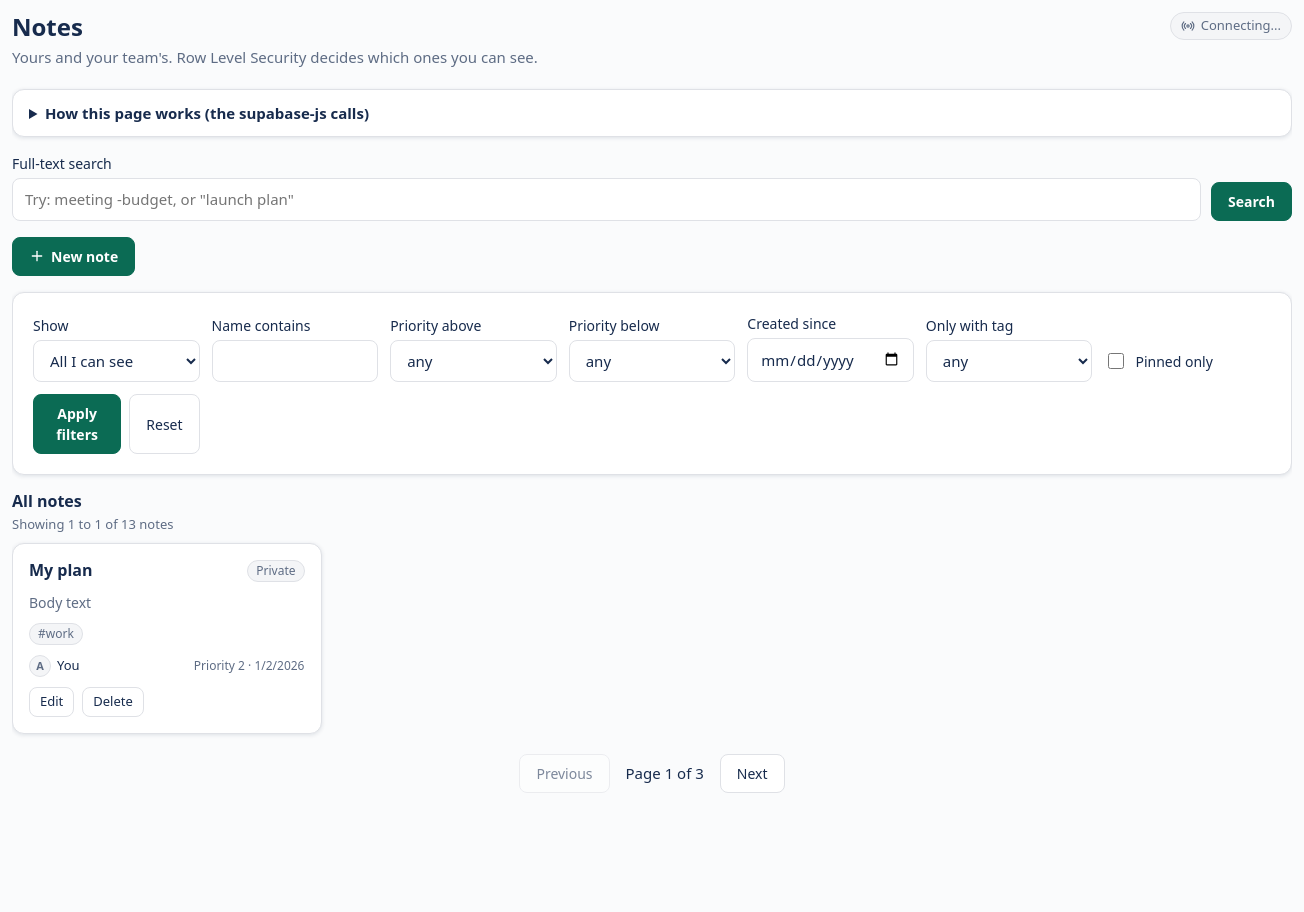
Test case: NotesPage › paginates with the range and the count
Check: the heading "My plan" is shown, box left=29, top=560, right=92, bottom=580
Check: the text "Page 1 of 3" is shown, box left=626, top=762, right=704, bottom=784
Click the button "Next" at (752, 773), box left=720, top=754, right=785, bottom=792
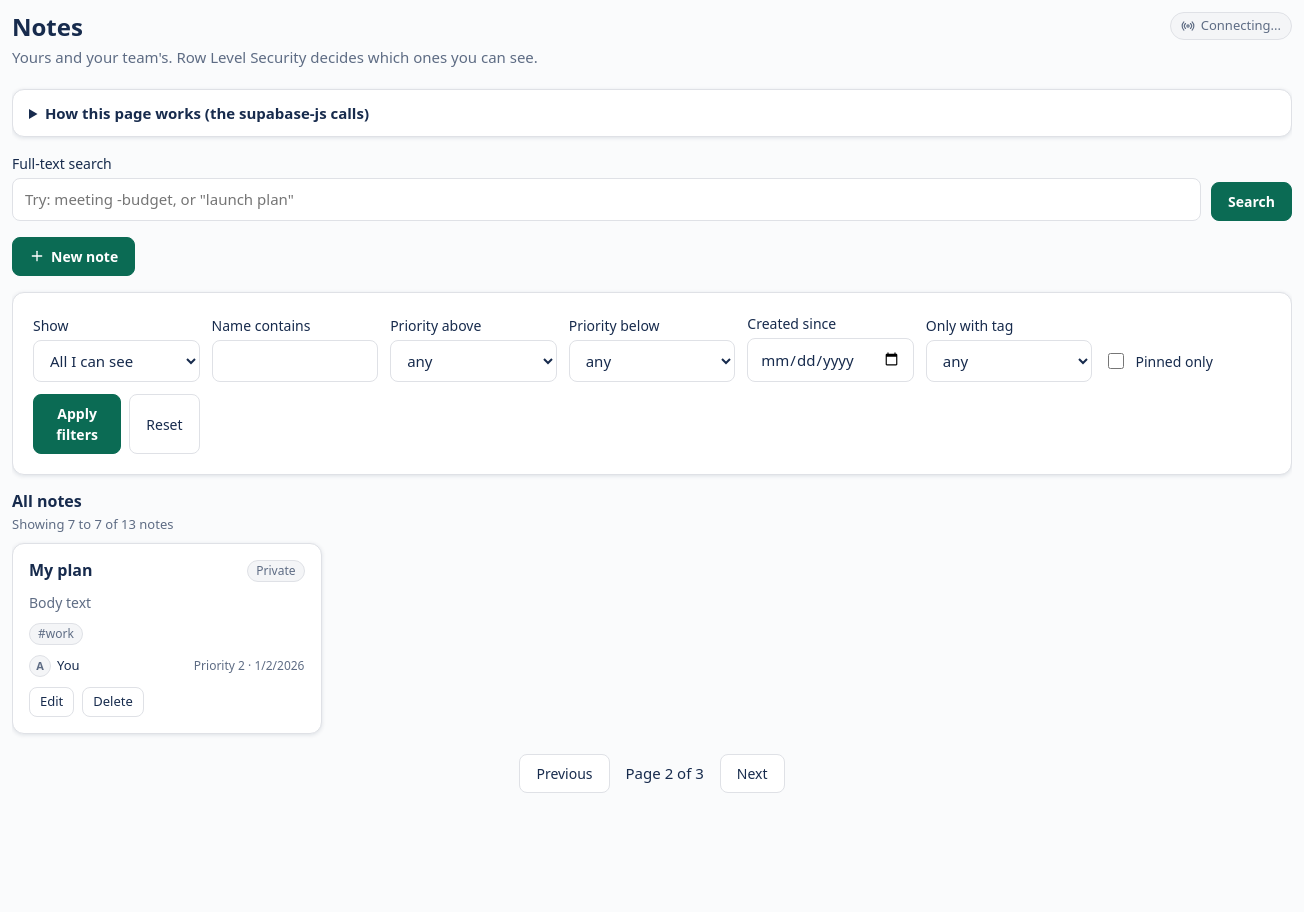
Check: the text "Page 2 of 3" is shown, box left=626, top=762, right=704, bottom=784
